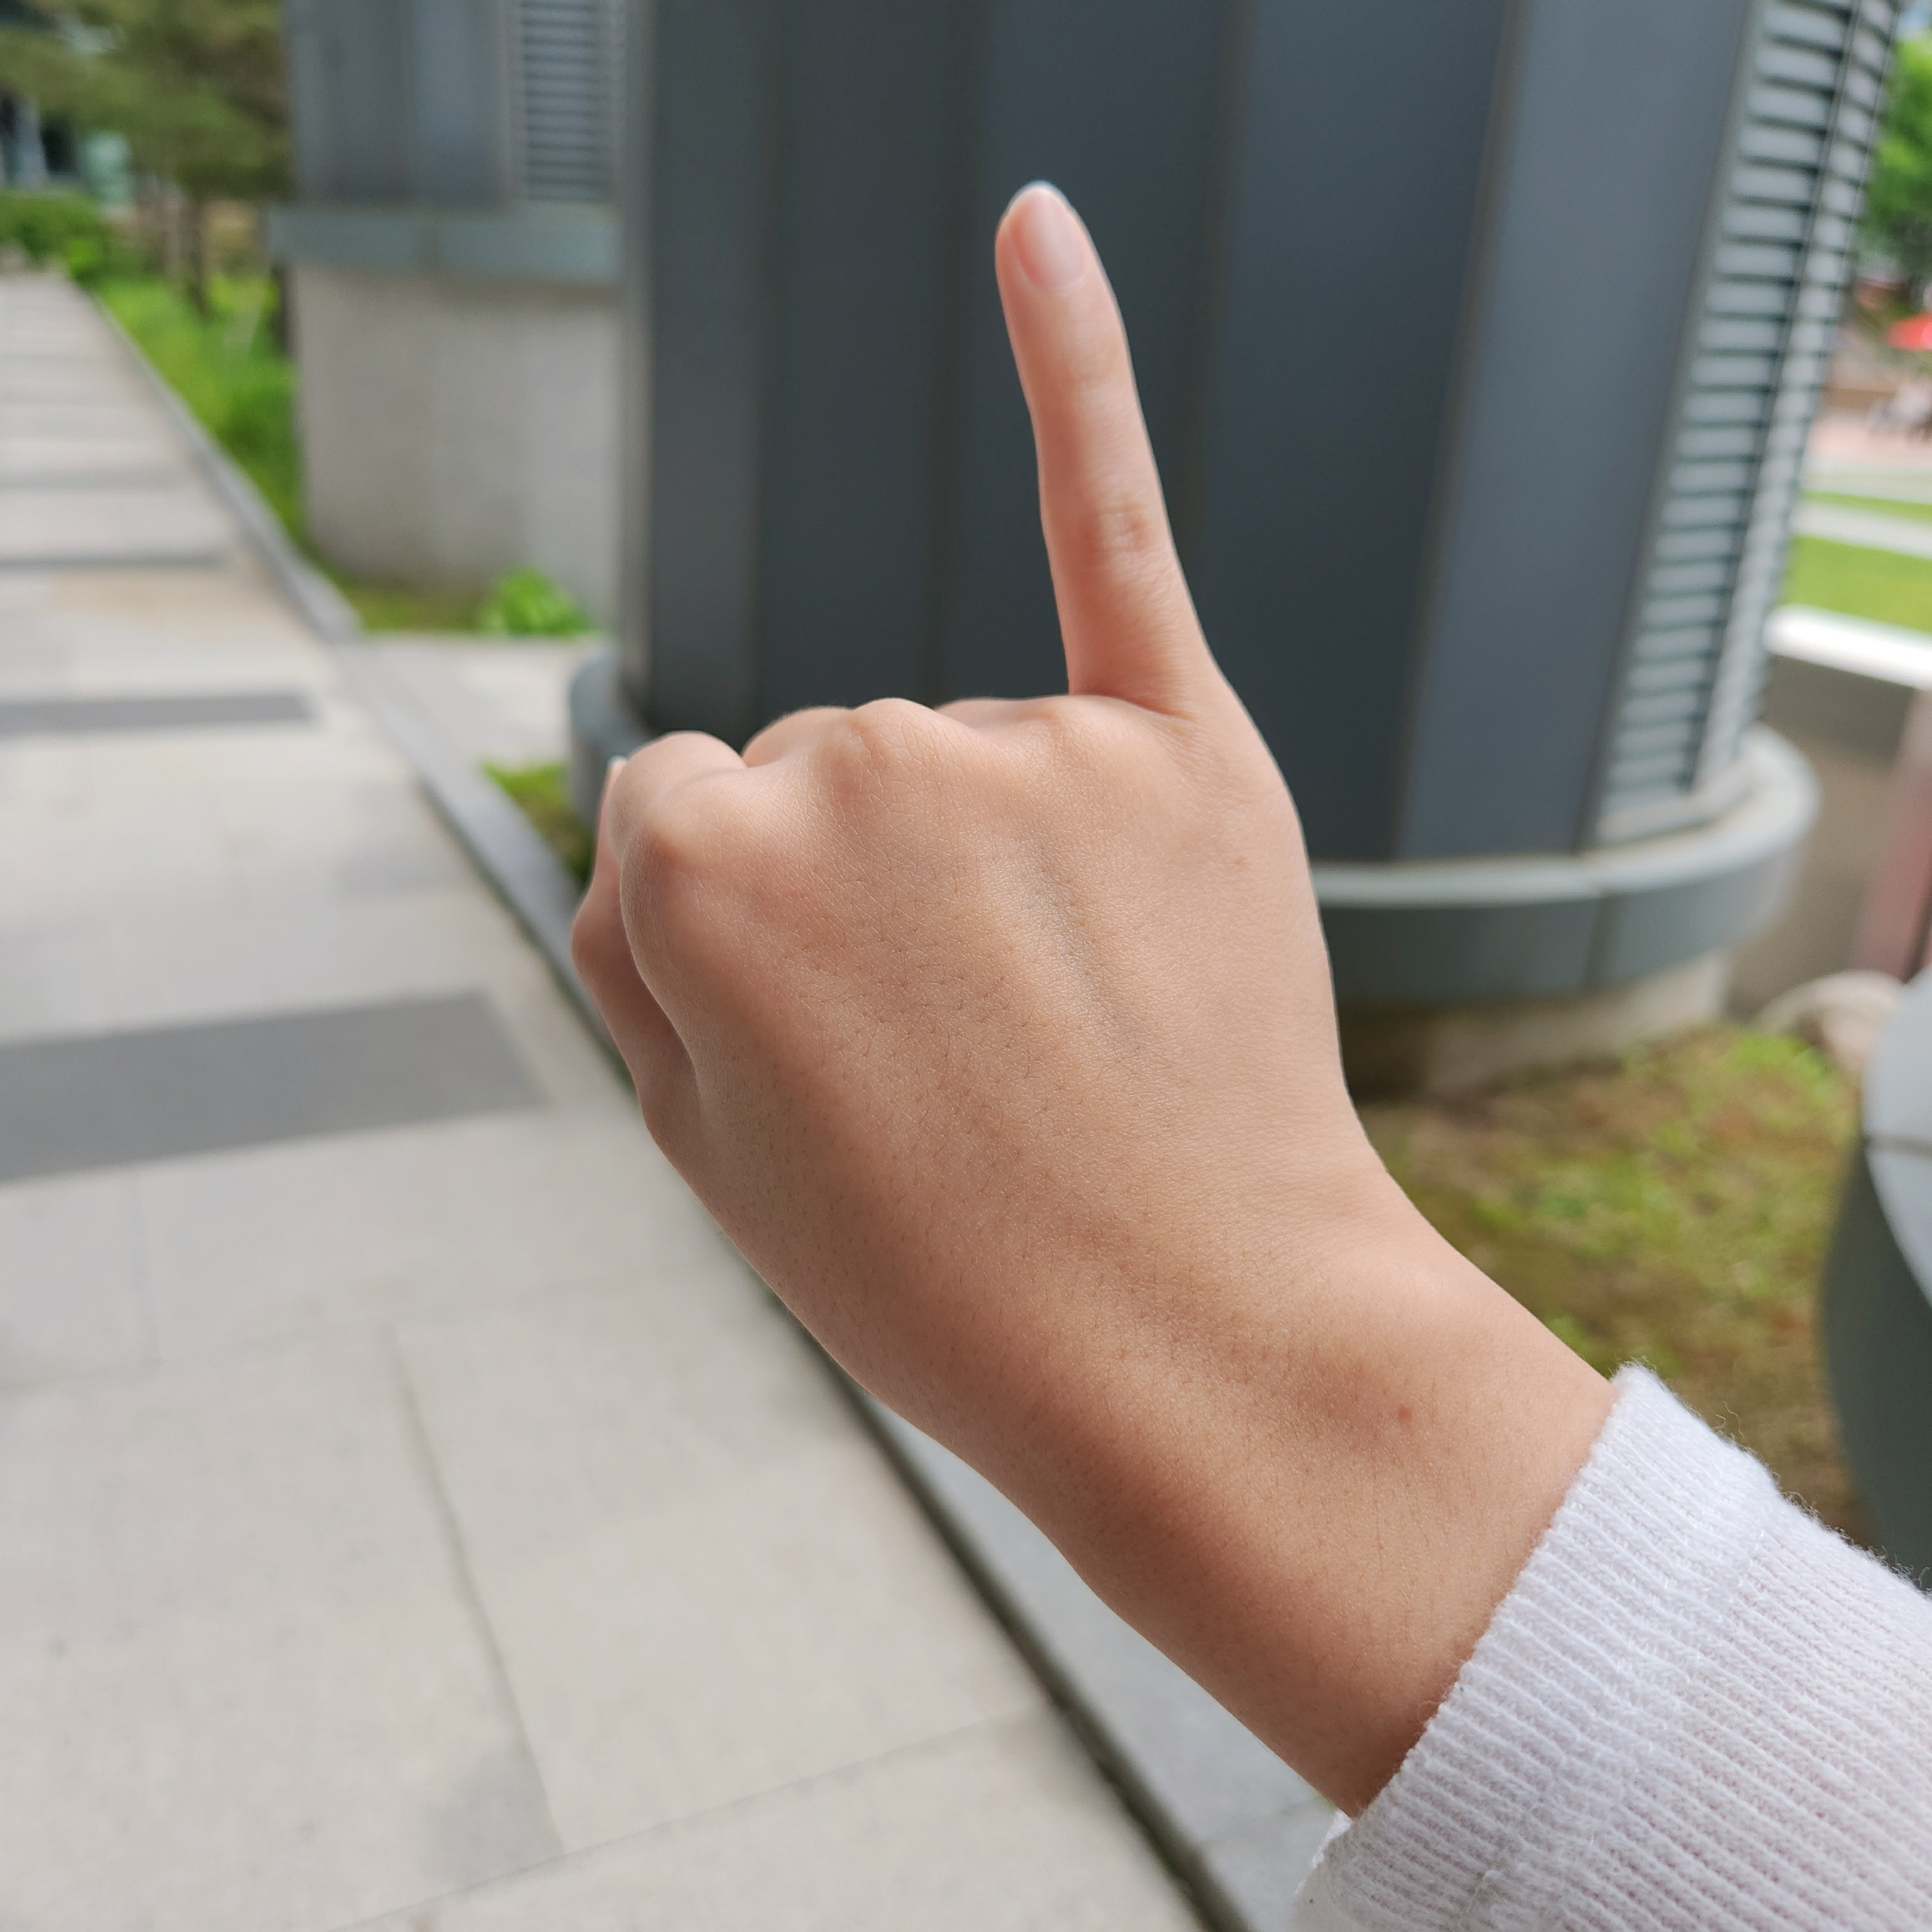fine: (577, 186, 1392, 1465)
